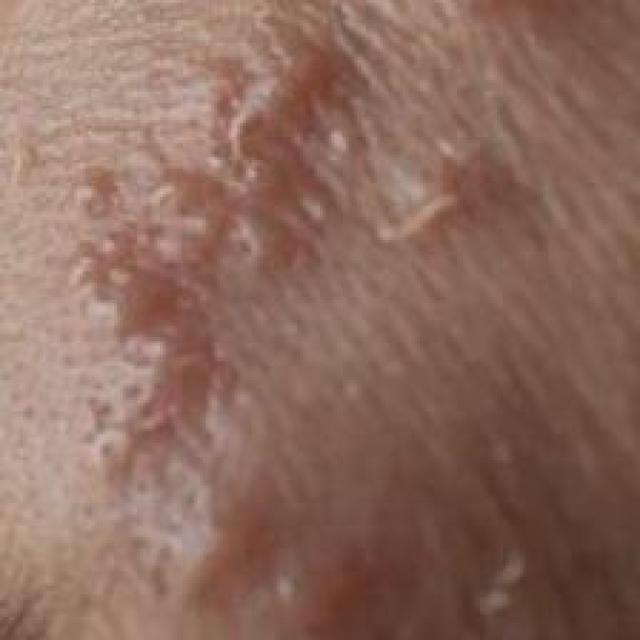monkeypox: (63, 0, 516, 640)
